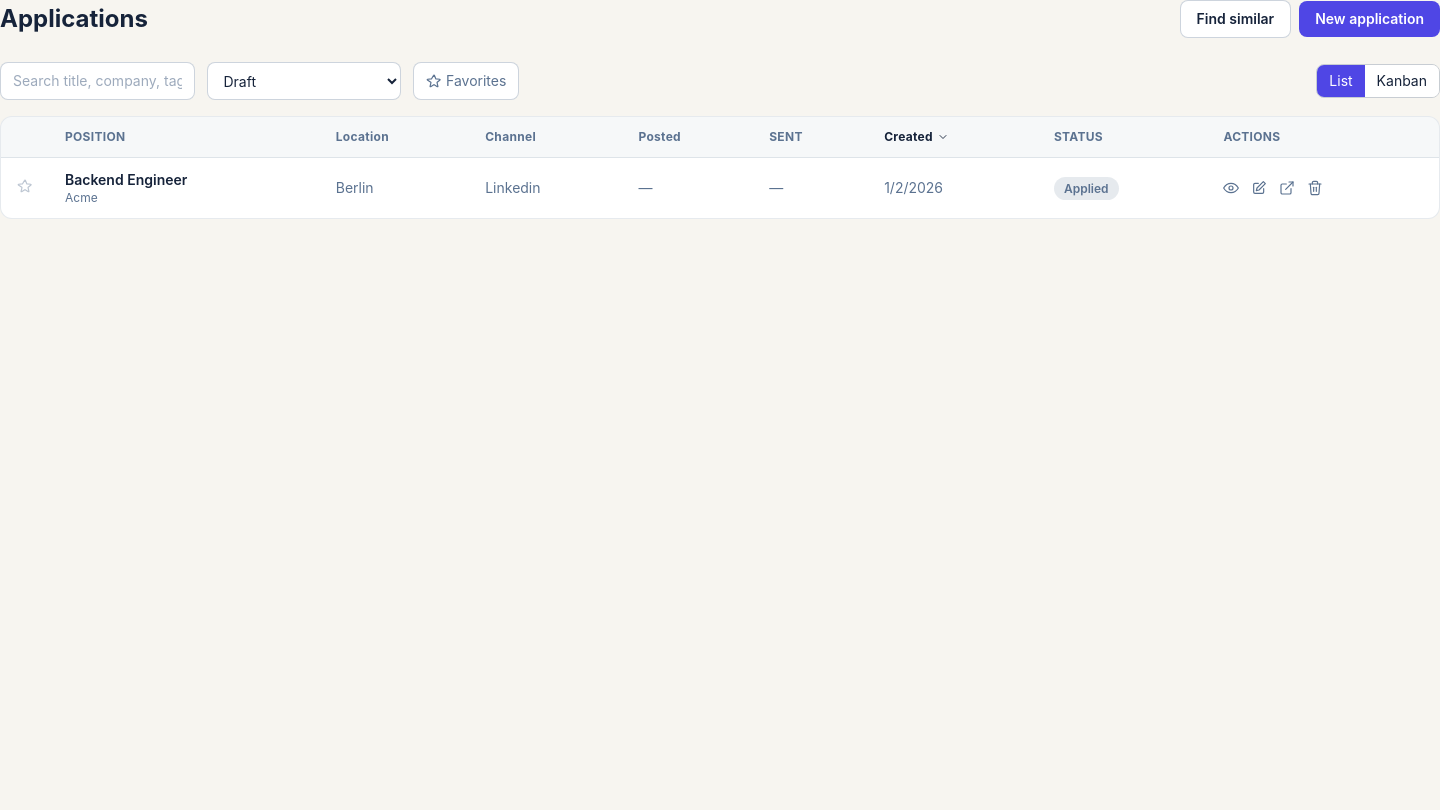
ApplicationsListPage › closes the quick-view modal when the close button is clicked (edge case)
The image size is (1440, 810).
Click the button named "view details" at [1231, 188], box [1223,180,1239,196]
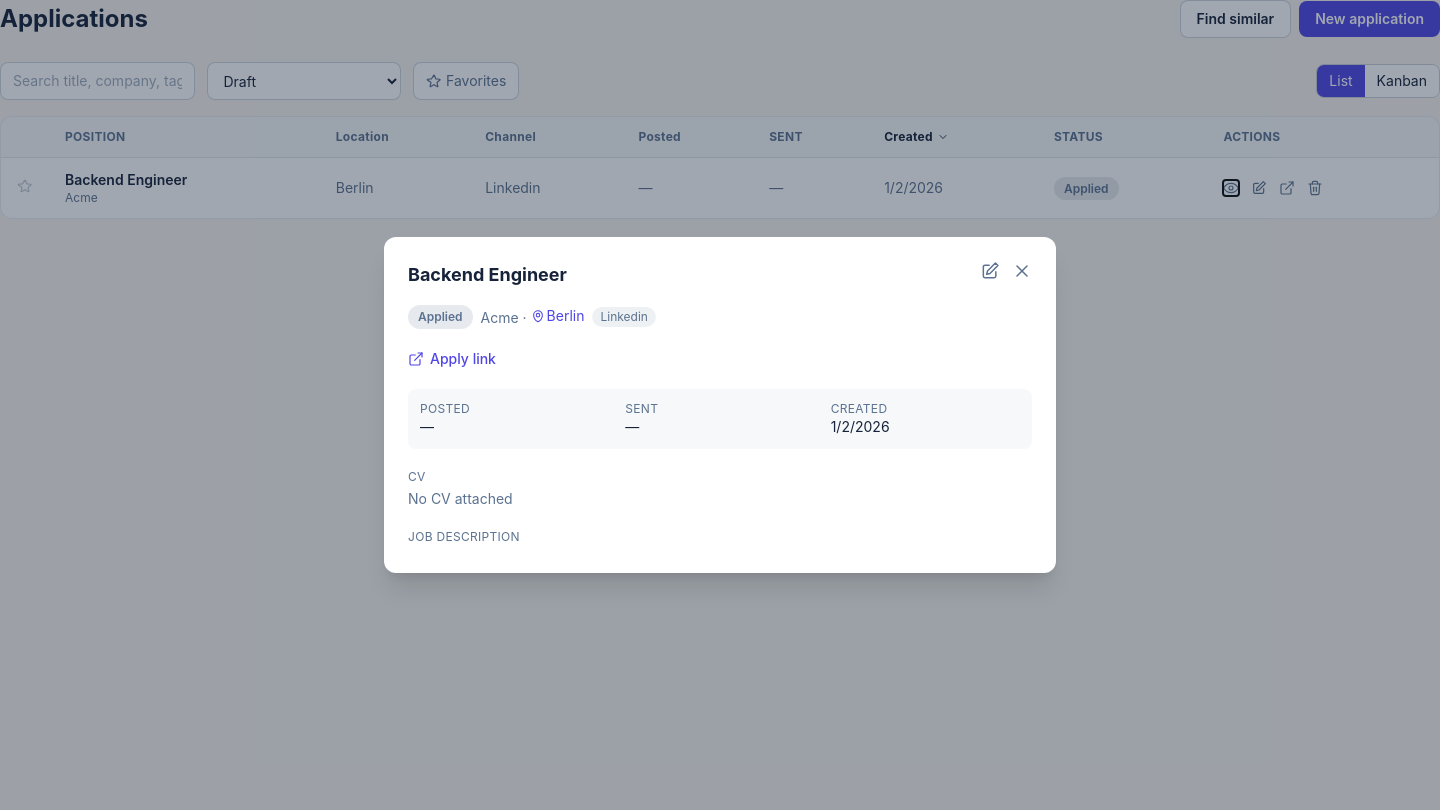
Result: the dialog is shown at [384,237,1056,573]
Click the button named "close" at [1022, 271], box [1012,261,1032,281]
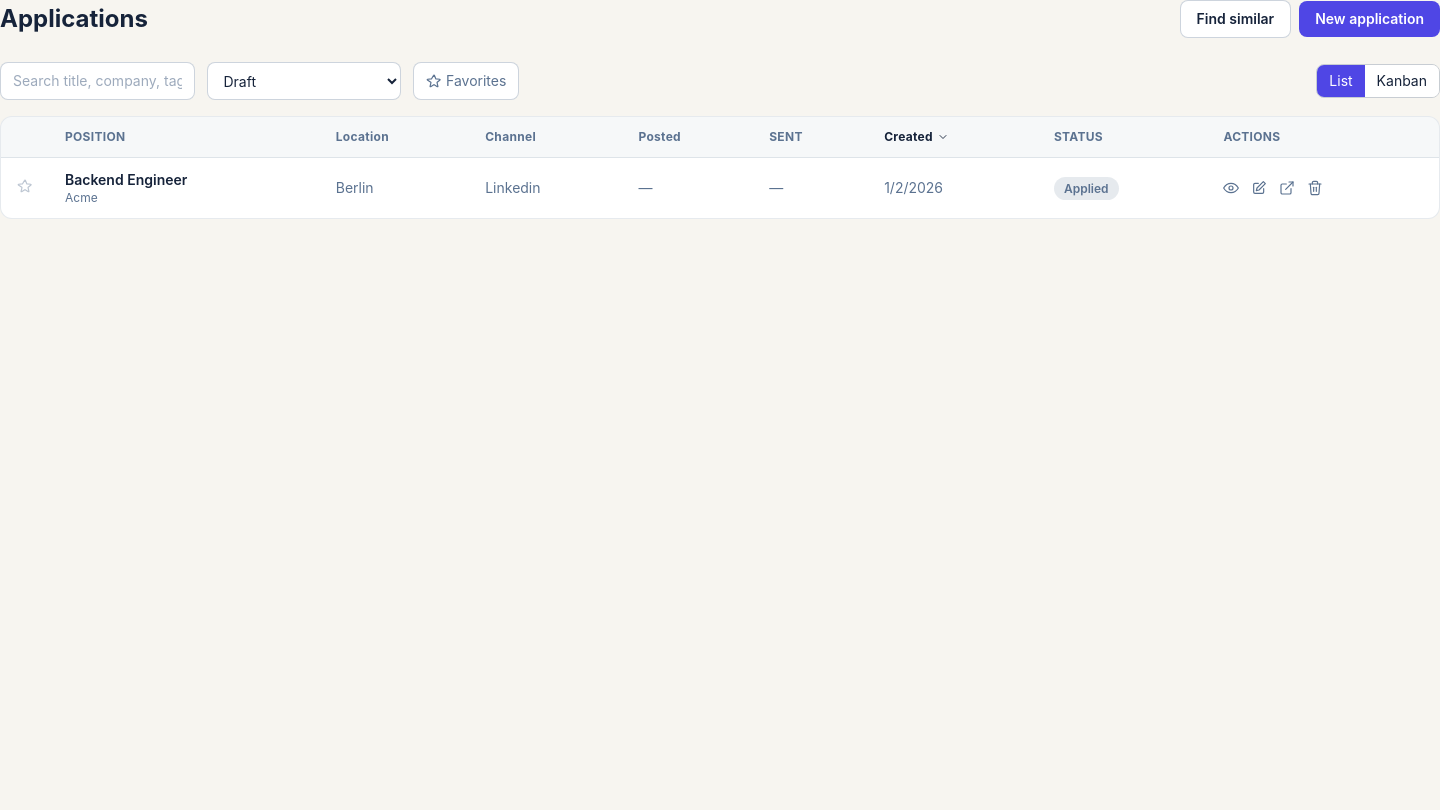
Result: the dialog is gone
